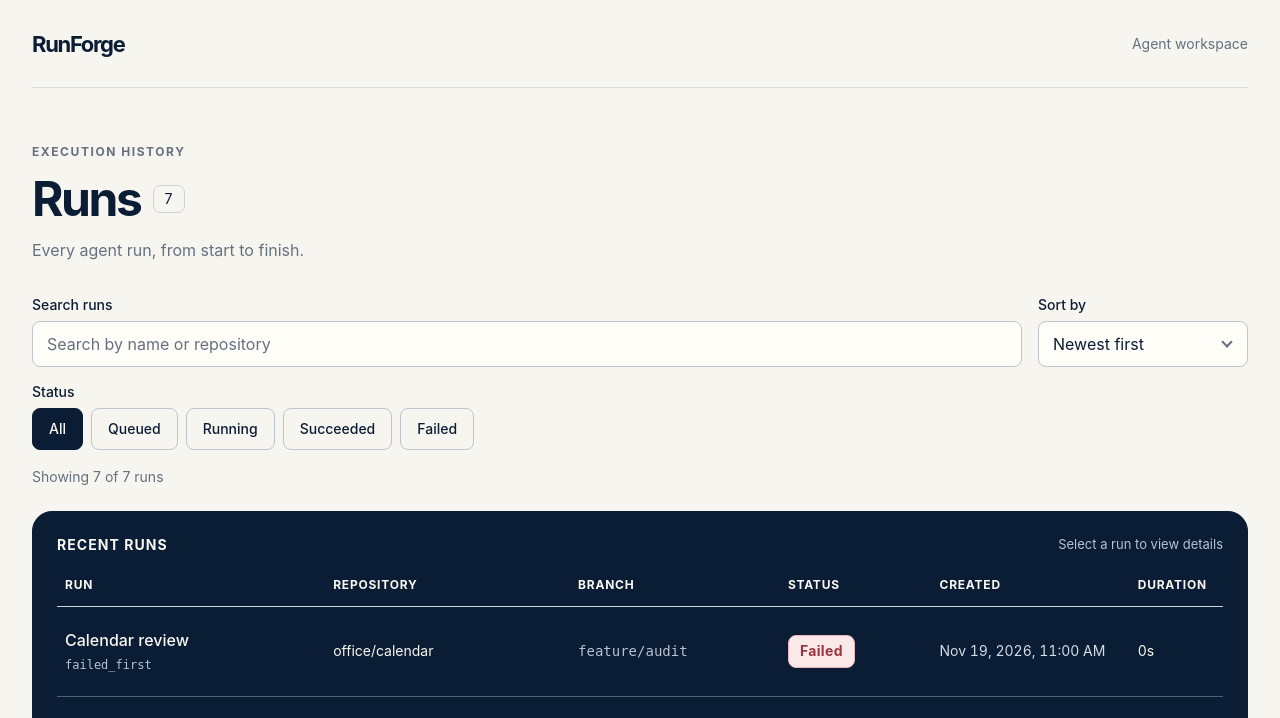
Scenario: ищет по названию с нормализацией запроса Invoice
In the search field: (527, 344) [32,321,1022,367], type "Invoice"
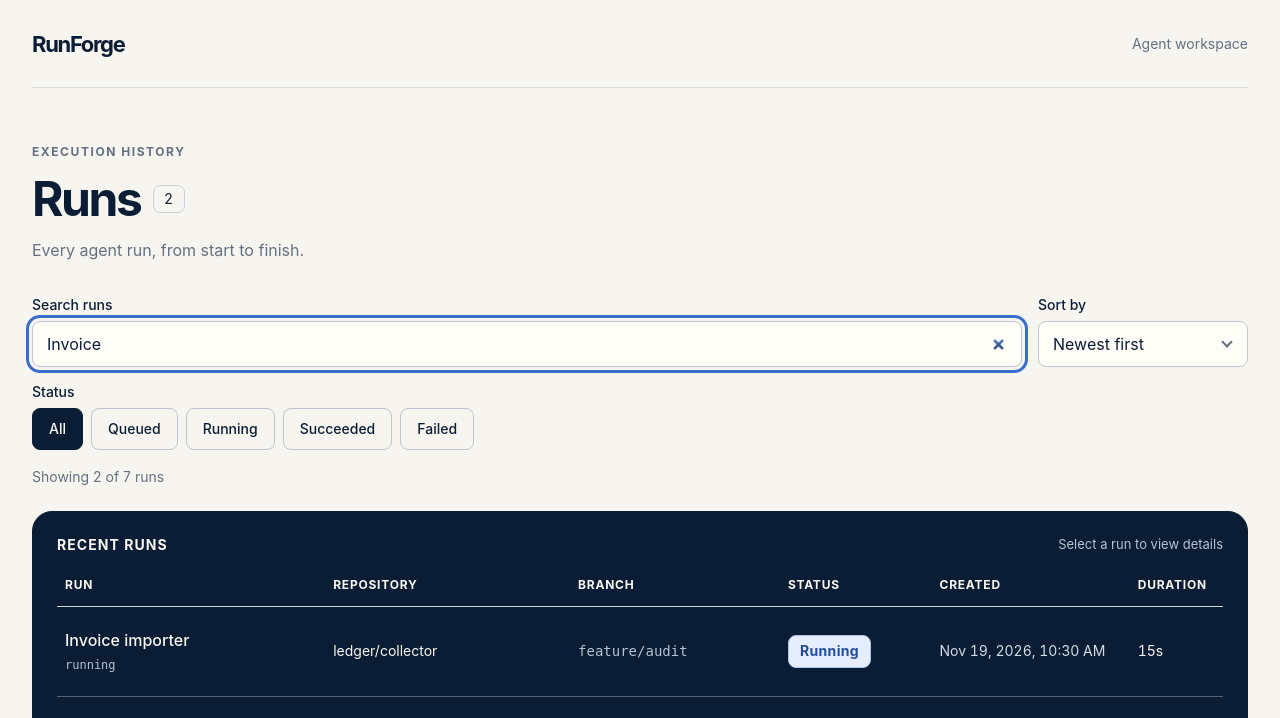
expect the text "Showing 2 of 7 runs" is shown: met, box [32,468,164,485]
